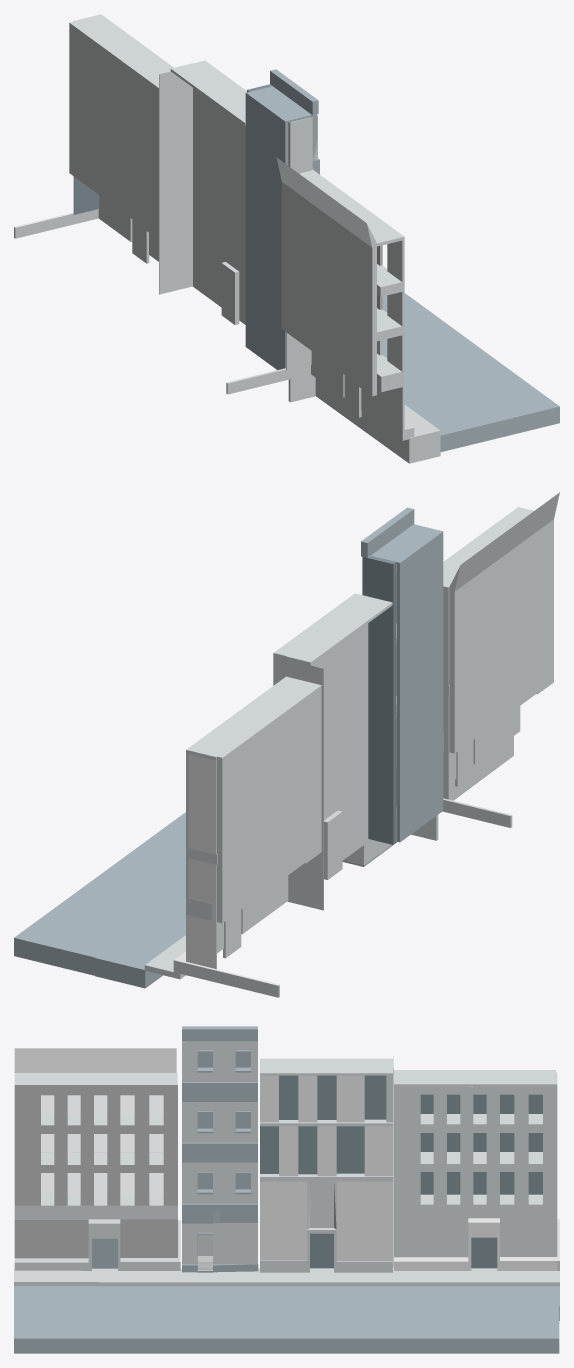
File: street.glb
3 views of the same model, one above another, from view 1: azimuth 30°, elevation 25°; view 2: azimuth 150°, elevation 25°; view 3: azimuth 270°, elevation 25° (orthographic). The views are drawn at different scales.
Visible parts, largest first — view 1: group281075198, group1377833400, group1664686608, group30276371, group1044577564, group817163139, group1090397654, group777434331; view 2: group1664686608, group281075198, group1377833400, group30276371, group1044577564, group149091269, group817163139, group901055539; view 3: group30276371, group281075198, group1664686608, group1377833400, group901055539, group838360221, group817163139, group1044577564, group1489489525, group58555764, group170945754, group1871981316 (+1 smaller).
Part boxes in pixels (x1,y1,x2,y2): group281075198: (226, 157, 414, 440); group1377833400: (159, 60, 246, 324); group1664686608: (14, 14, 173, 263); group30276371: (382, 293, 559, 452); group1044577564: (245, 69, 311, 369); group817163139: (315, 378, 440, 463); group1090397654: (288, 115, 317, 402); group777434331: (291, 85, 319, 168); group1664686608: (173, 676, 321, 997); group281075198: (442, 492, 559, 827); group1377833400: (273, 593, 392, 910); group30276371: (14, 705, 396, 988); group1044577564: (361, 524, 443, 842); group149091269: (363, 556, 396, 844); group817163139: (342, 736, 513, 866); group901055539: (144, 842, 365, 979); group30276371: (14, 1286, 559, 1353); group281075198: (14, 1048, 180, 1270); group1664686608: (394, 1070, 559, 1270); group1377833400: (260, 1055, 393, 1272); group901055539: (258, 1268, 559, 1286); group838360221: (182, 1211, 258, 1272); group817163139: (14, 1268, 258, 1286); group1044577564: (197, 1026, 257, 1255); group1489489525: (220, 1150, 257, 1211); group58555764: (182, 1150, 219, 1211); group170945754: (220, 1090, 257, 1150); group1871981316: (182, 1090, 219, 1150).
Bounding box in the file's own units: 1.34 × 1.56 × 2.92.
